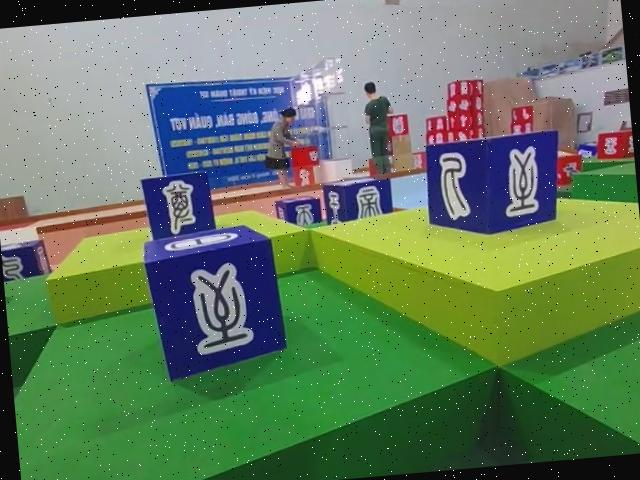R2 Fake Blue: (138, 220, 286, 384), (422, 131, 564, 242), (140, 167, 217, 241), (320, 177, 391, 227), (0, 233, 52, 278), (271, 194, 319, 228)
